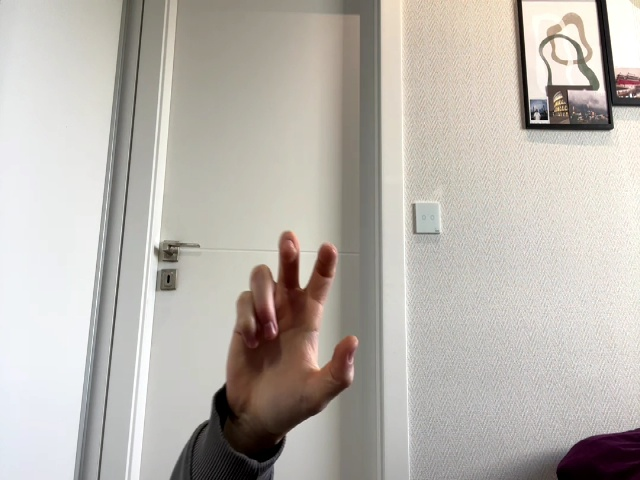CH: (226, 231, 359, 425)
